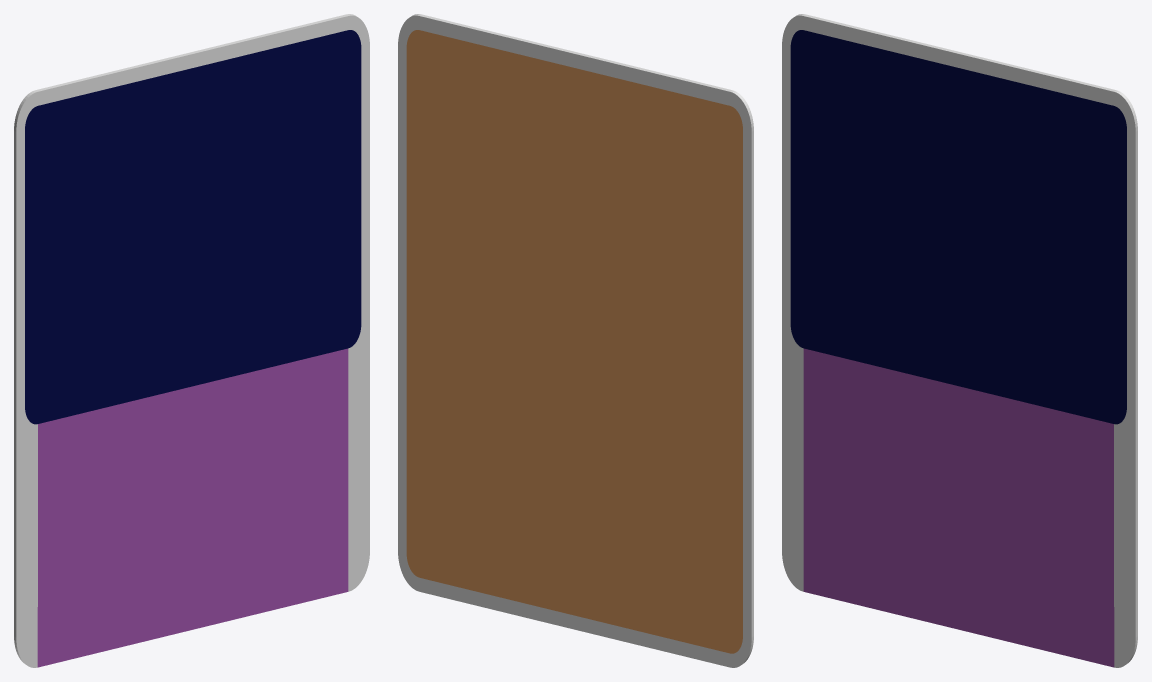
Rendered from Card.fbx.
3 views of the same model, side by side, from view 1: azimuth 30°, elevation 25°; view 2: azimuth 150°, elevation 25°; view 3: azimuth 330°, elevation 25° (orthographic).
Parts seen in each view (by area): view 1: Cube.011; view 2: Cube.011; view 3: Cube.011.
Part boxes in pixels (<box>): Cube.011: <box>14,14,369,667</box>; Cube.011: <box>398,14,753,667</box>; Cube.011: <box>782,14,1137,667</box>.
Bounding box in the file's own units: 346 × 538 × 3.85.
